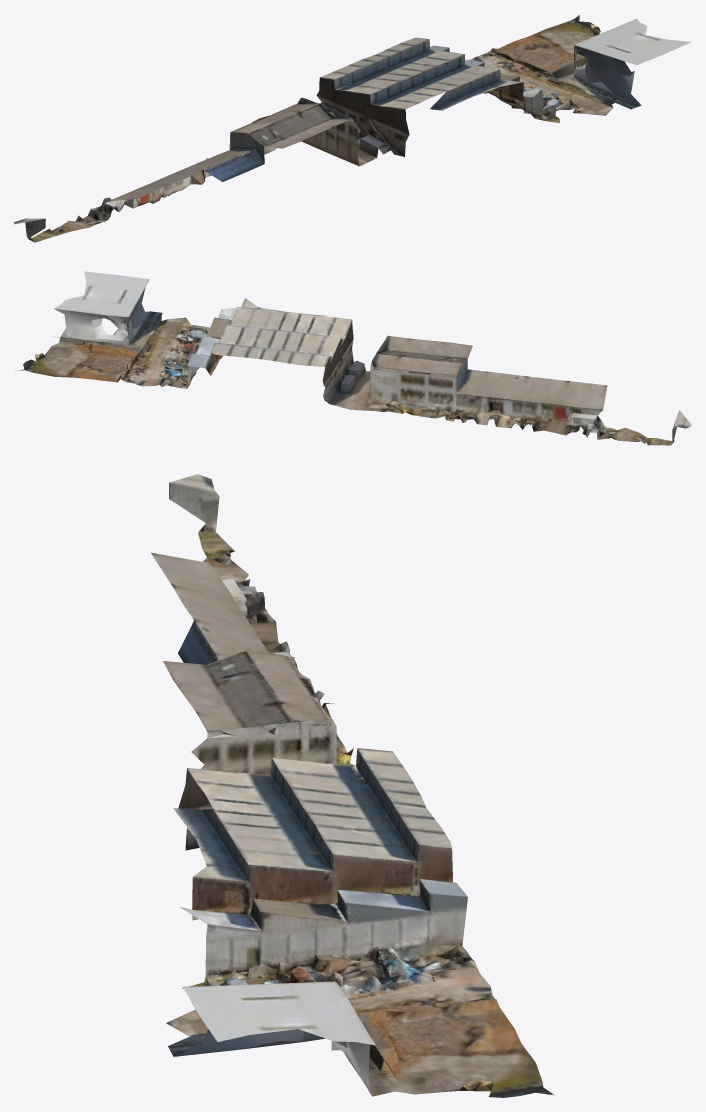
Rendered from Tile_006_014_L18.gltf.
3 views of the same model, one above another, from view 1: azimuth 30°, elevation 25°; view 2: azimuth 150°, elevation 25°; view 3: azimuth 270°, elevation 25° (orthographic). The views are drawn at different scales.
Visible parts, largest first — view 1: Tile_+006_+014_L18; view 2: Tile_+006_+014_L18; view 3: Tile_+006_+014_L18.
Part boxes in pixels (x1=…): Tile_+006_+014_L18: x1=14, y1=14, x2=691, y2=242; Tile_+006_+014_L18: x1=15, y1=271, x2=691, y2=445; Tile_+006_+014_L18: x1=151, y1=474, x2=554, y2=1097.
Size of the model in its own units: 175 by 12.59 by 50.89.
Materials: 1 (1 with a texture image).
